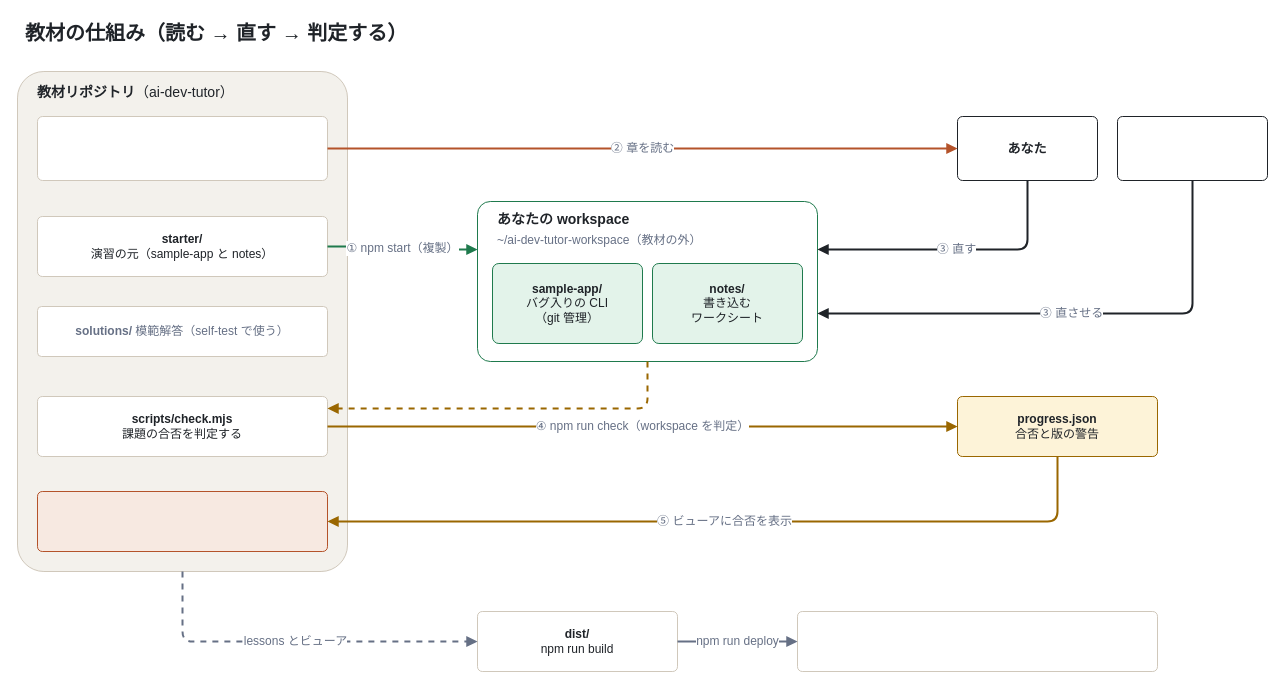
The diagram is 1285 pixels wide and 689 high, and some of its shapes have lost their labels. The centre of each missing label's shape, as x and y in pixels:
"Claude Code 頼んで直させても可" belongs at pixel 1192 148.
"Cloudflare Workers （公開版） 読むだけ・進捗は出ない" belongs at pixel 977 641.
"lessons/*.md 章の本文・課題・時点の帯・告知・年表" belongs at pixel 182 148.
"ビューア npm run serve → localhost:3250" belongs at pixel 182 521.
